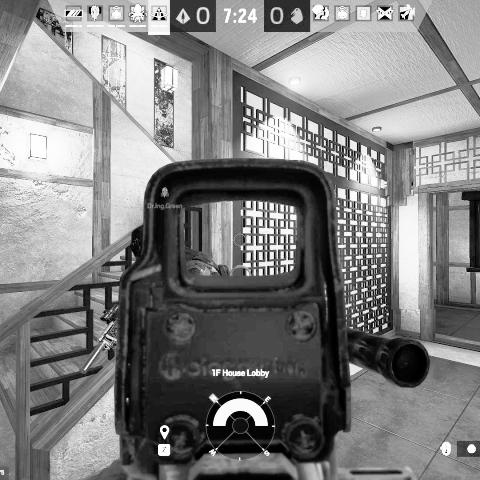Character: (76, 221, 235, 377)
Friend_label: (144, 184, 184, 210)
